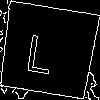L: (23, 25, 57, 75)
